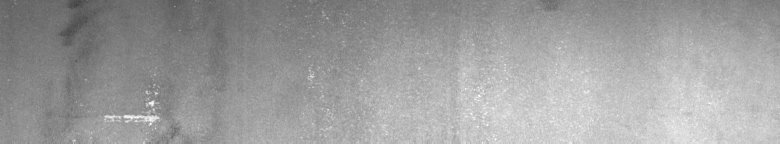hc: (59, 4, 184, 136)
